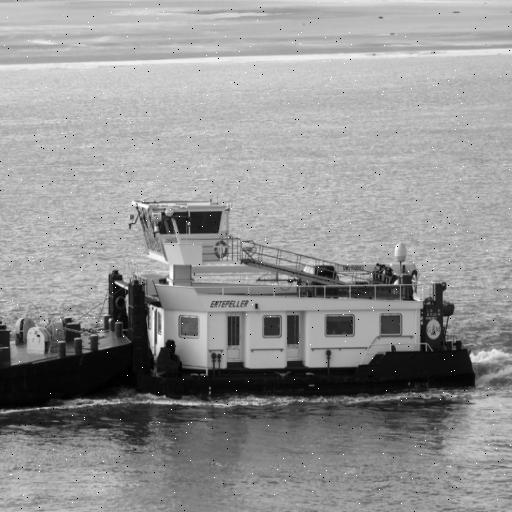tugboat: (105, 193, 482, 410)
